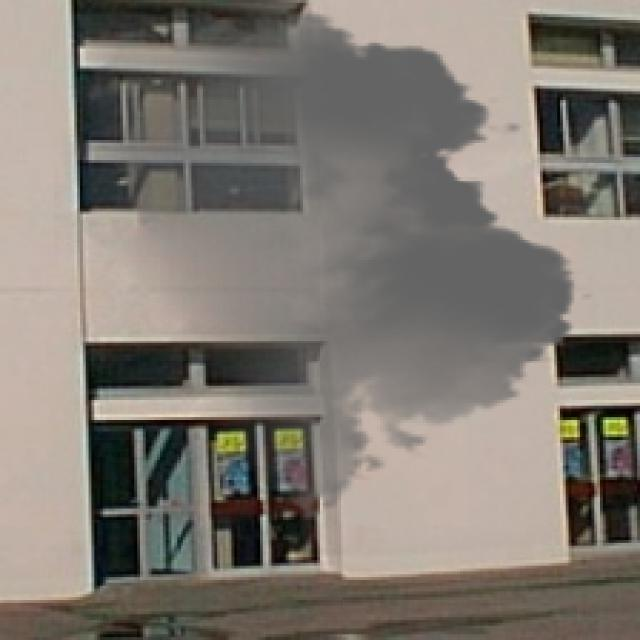Smoke: (55, 0, 594, 523)
